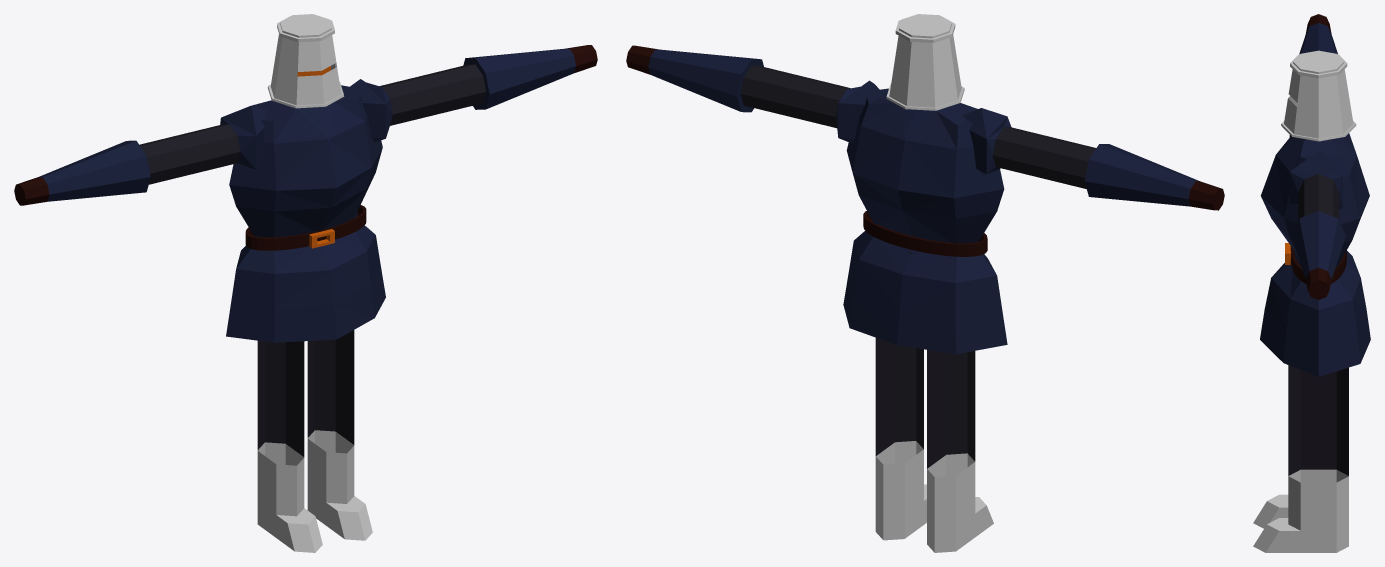
File: Chad_Knight.obj
3 views of the same model, side by side, from view 1: azimuth 30°, elevation 25°; view 2: azimuth 150°, elevation 25°; view 3: azimuth 270°, elevation 25° (orthographic). The views are drawn at different scales.
Visible parts, largest first — view 1: Armor_Cube, Boots_Cube.006, Legs_Cube.004, LowerArm_Cylinder, UpperArm_Cylinder.002, Helmet_Cube.003, Shoulder_Cylinder.001, Belt_Circle, Fist_Cylinder.003; view 2: Armor_Cube, Legs_Cube.004, Boots_Cube.006, LowerArm_Cylinder, UpperArm_Cylinder.002, Helmet_Cube.003, Shoulder_Cylinder.001, Belt_Circle, Fist_Cylinder.003; view 3: Armor_Cube, Boots_Cube.006, Legs_Cube.004, Helmet_Cube.003, LowerArm_Cylinder, UpperArm_Cylinder.002, Shoulder_Cylinder.001, Fist_Cylinder.003, Belt_Circle.
Part boxes in pixels (x1,y1,x2,y2): Armor_Cube: (226, 85, 385, 342); Boots_Cube.006: (257, 430, 372, 552); Legs_Cube.004: (257, 330, 354, 456); LowerArm_Cylinder: (38, 48, 575, 201); UpperArm_Cylinder.002: (139, 64, 485, 184); Helmet_Cube.003: (267, 14, 344, 108); Shoulder_Cylinder.001: (220, 79, 392, 171); Belt_Circle: (245, 205, 366, 250); Fist_Cylinder.003: (14, 45, 597, 205); Armor_Cube: (843, 88, 1007, 354); Legs_Cube.004: (875, 251, 975, 468); Boots_Cube.006: (875, 441, 993, 552); LowerArm_Cylinder: (648, 49, 1199, 206); UpperArm_Cylinder.002: (740, 65, 1096, 188); Helmet_Cube.003: (886, 14, 964, 110); Shoulder_Cylinder.001: (836, 80, 1011, 175); Belt_Circle: (863, 211, 987, 256); Fist_Cylinder.003: (626, 45, 1224, 210); Armor_Cube: (1260, 133, 1370, 376); Boots_Cube.006: (1253, 469, 1348, 552); Legs_Cube.004: (1288, 365, 1348, 475); Helmet_Cube.003: (1281, 50, 1356, 141); LowerArm_Cylinder: (1291, 23, 1345, 278); UpperArm_Cylinder.002: (1298, 174, 1339, 220); Shoulder_Cylinder.001: (1289, 135, 1342, 208); Fist_Cylinder.003: (1305, 14, 1331, 299); Belt_Circle: (1290, 246, 1346, 283).
Bounding box in the file's own units: 12.28 × 10.19 × 2.3.
